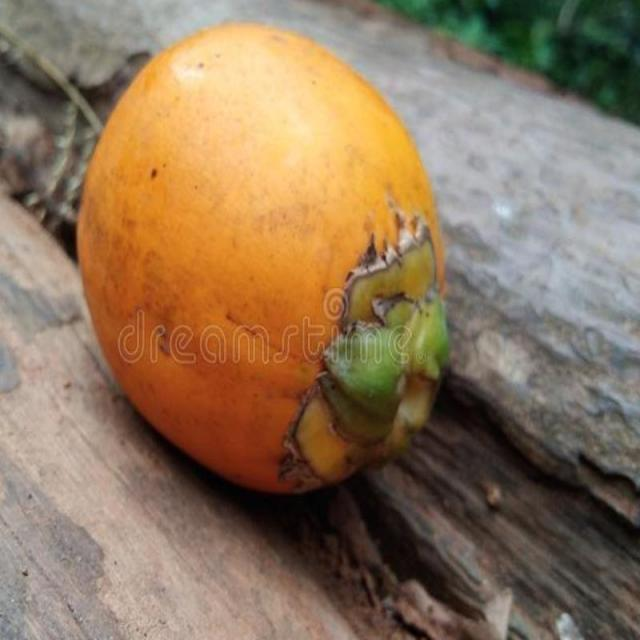good: (76, 22, 451, 499)
